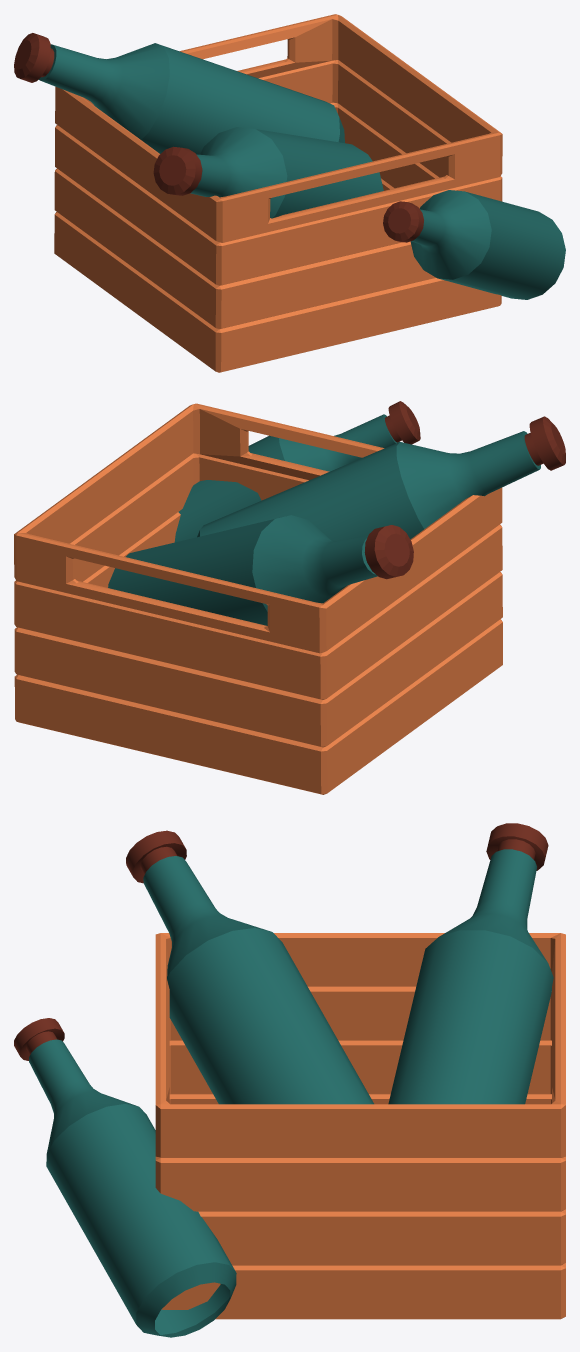
File: Decore 1.fbx
3 views of the same model, one above another, from view 1: azimuth 30°, elevation 25°; view 2: azimuth 150°, elevation 25°; view 3: azimuth 270°, elevation 25° (orthographic). The views are drawn at different scales.
Parts seen in each view (by area): view 1: Cube.047, Circle.236, Circle.237, Circle.235; view 2: Cube.047, Circle.235, Circle.236, Circle.237; view 3: Cube.047, Circle.235, Circle.237, Circle.236.
Boxes of the visible parts, x1=… form: Cube.047: x1=54, y1=14, x2=502, y2=372; Circle.236: x1=14, y1=33, x2=344, y2=154; Circle.237: x1=383, y1=190, x2=565, y2=299; Circle.235: x1=153, y1=127, x2=383, y2=218; Cube.047: x1=14, y1=403, x2=502, y2=794; Circle.235: x1=197, y1=416, x2=565, y2=588; Circle.236: x1=108, y1=515, x2=413, y2=625; Circle.237: x1=174, y1=401, x2=420, y2=542; Cube.047: x1=155, y1=933, x2=565, y2=1319; Circle.235: x1=126, y1=830, x2=373, y2=1104; Circle.237: x1=14, y1=1018, x2=236, y2=1337; Circle.236: x1=388, y1=823, x2=553, y2=1104.
Size of the model in its own units: 20.7 by 12.04 by 19.74.
